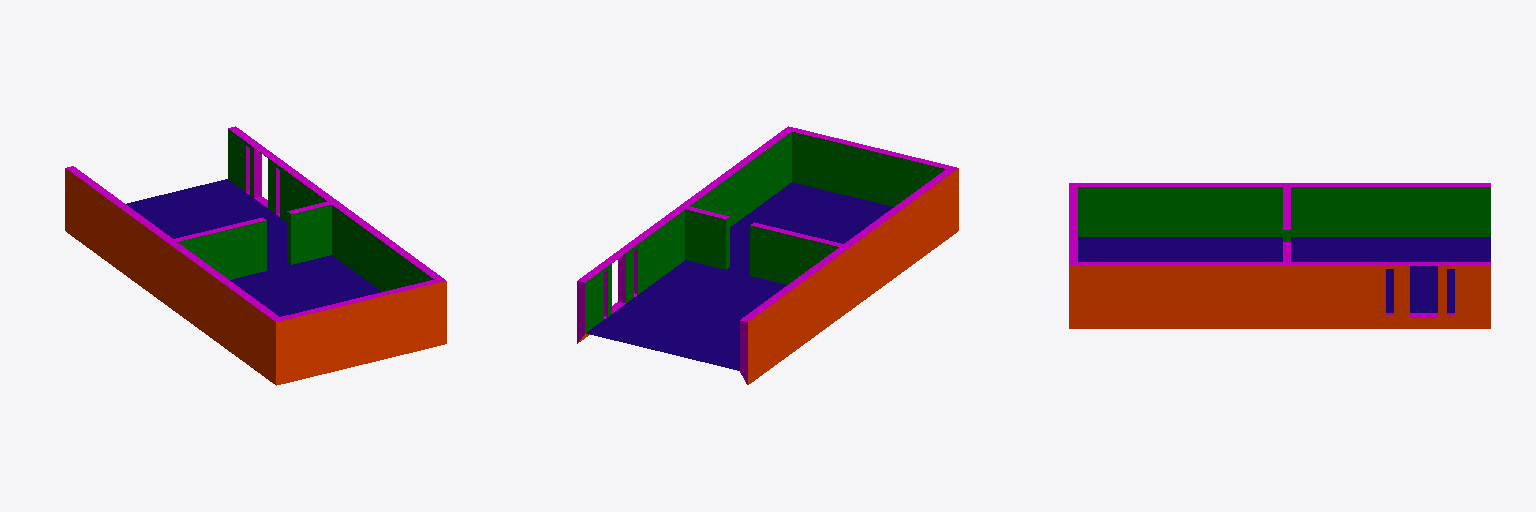
The model's file is Raum.obj.
3 renders of one model, left to right at view 1: azimuth 30°, elevation 25°; view 2: azimuth 150°, elevation 25°; view 3: azimuth 270°, elevation 25°, orthographic.
Parts seen in each view (by area): view 1: Raum_noMat:Raum1; view 2: Raum_noMat:Raum1; view 3: Raum_noMat:Raum1.
Part boxes in pixels (x1,y1,x2,y2): Raum_noMat:Raum1: (65, 126, 446, 385); Raum_noMat:Raum1: (577, 126, 958, 384); Raum_noMat:Raum1: (1069, 183, 1490, 328).
Size of the model in its own units: 700 by 249 by 1501.